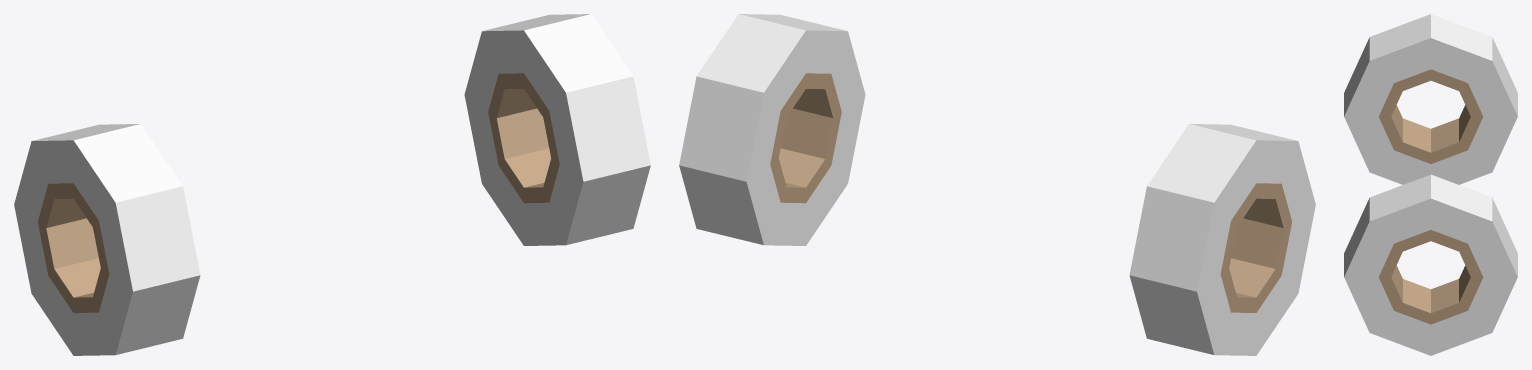
Rendered from paperRearWheel.dae.
3 renders of one model, left to right at view 1: azimuth 30°, elevation 25°; view 2: azimuth 150°, elevation 25°; view 3: azimuth 270°, elevation 25°, orthographic. The views are drawn at different scales.
Visible parts, largest first — view 1: PaperRearWheel; view 2: PaperRearWheel; view 3: PaperRearWheel.
Boxes of the visible parts, x1,y1,x2,y2 form: PaperRearWheel: (14,14,650,355); PaperRearWheel: (679,14,1315,355); PaperRearWheel: (1344,14,1517,355).
Size of the model in its own units: 153 by 60.75 by 60.75.
